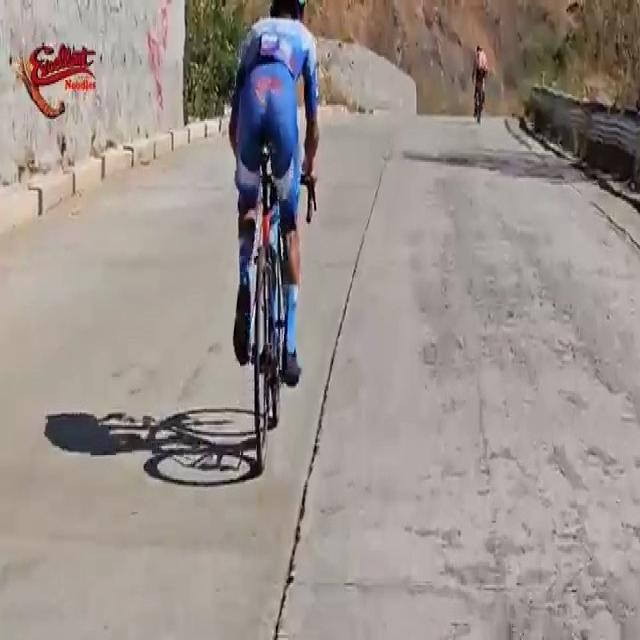bike: (224, 0, 328, 470), (471, 42, 490, 126)
